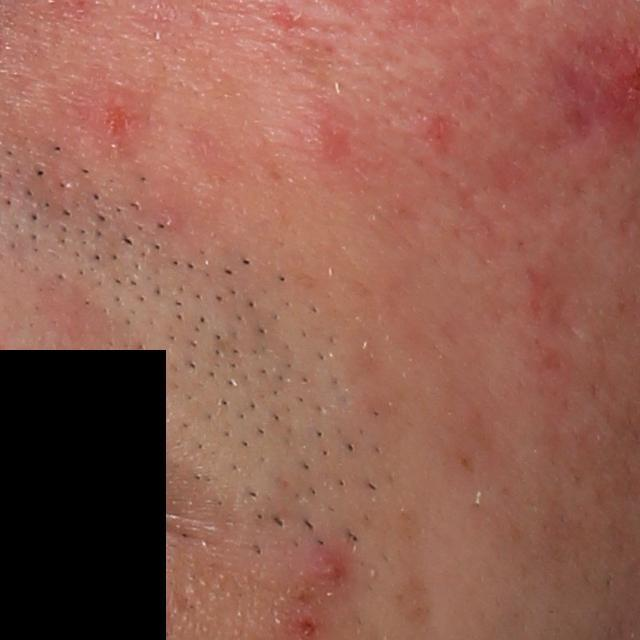papule: (88, 83, 137, 149), (296, 113, 350, 167), (311, 550, 356, 588)
